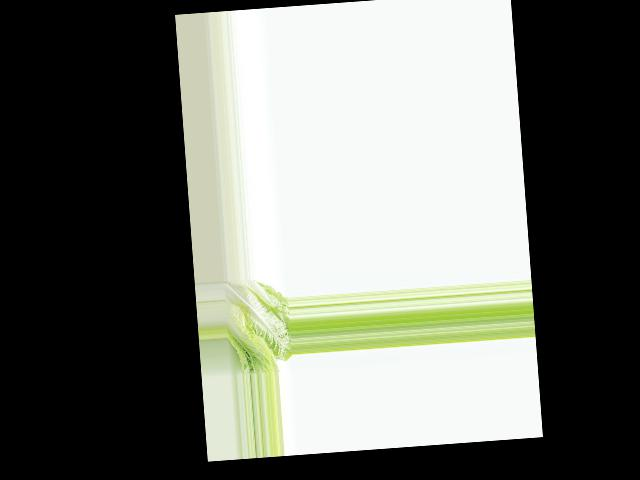lettuce: (223, 276, 292, 376)
